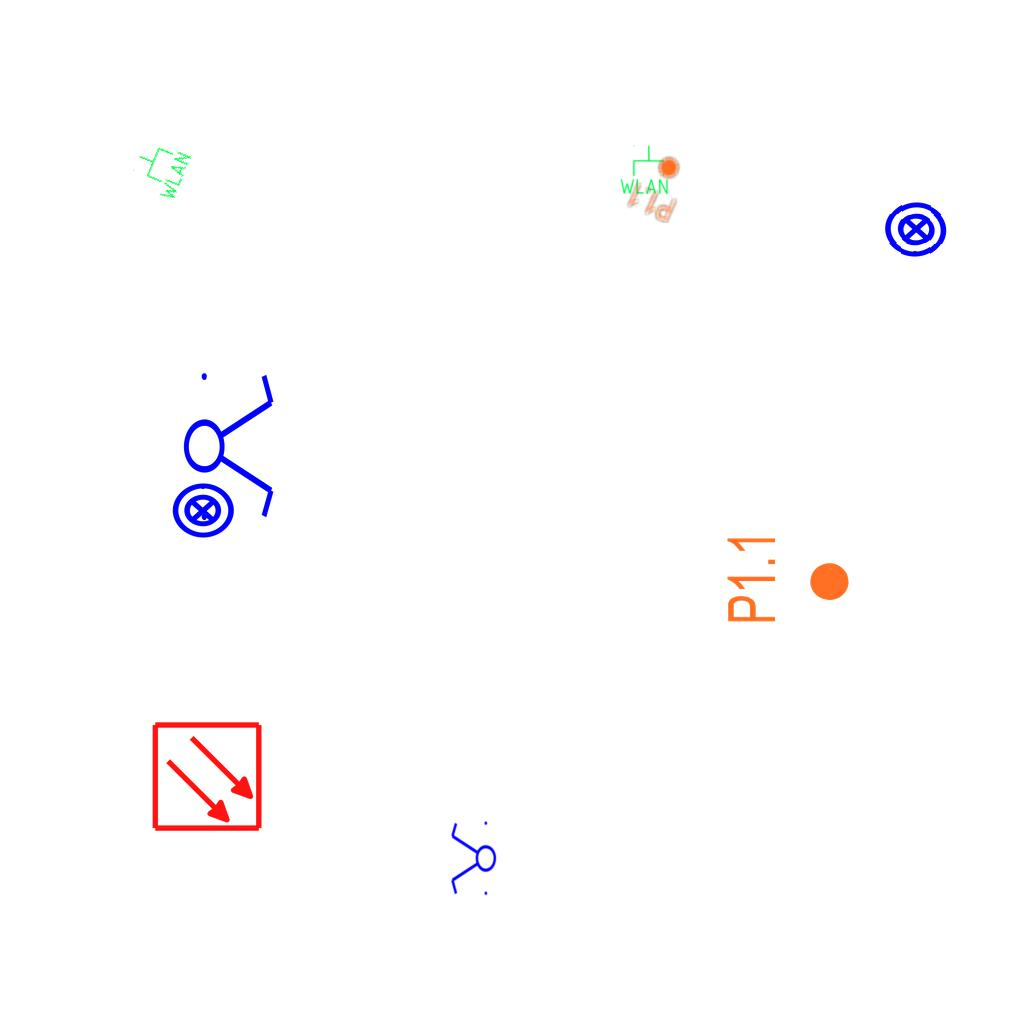Downlight_LED_Einbauleuchten_Flur: (724, 532, 852, 625), (624, 147, 694, 225)
RMO_Rauchmelder_optischer: (151, 720, 264, 833)
Serienschalter: (182, 361, 278, 529), (449, 817, 497, 901)
Taster_beleuchtet: (881, 194, 951, 264), (170, 478, 236, 544)
WLAN: (126, 136, 194, 204), (618, 144, 670, 196)
